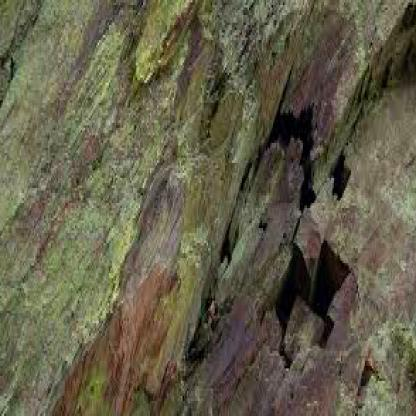Metamorphic_Quartize: (0, 5, 415, 414)
